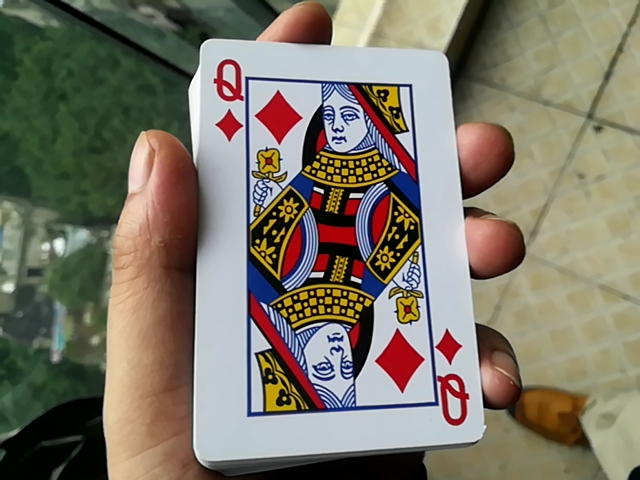fk q: (163, 41, 484, 467)
